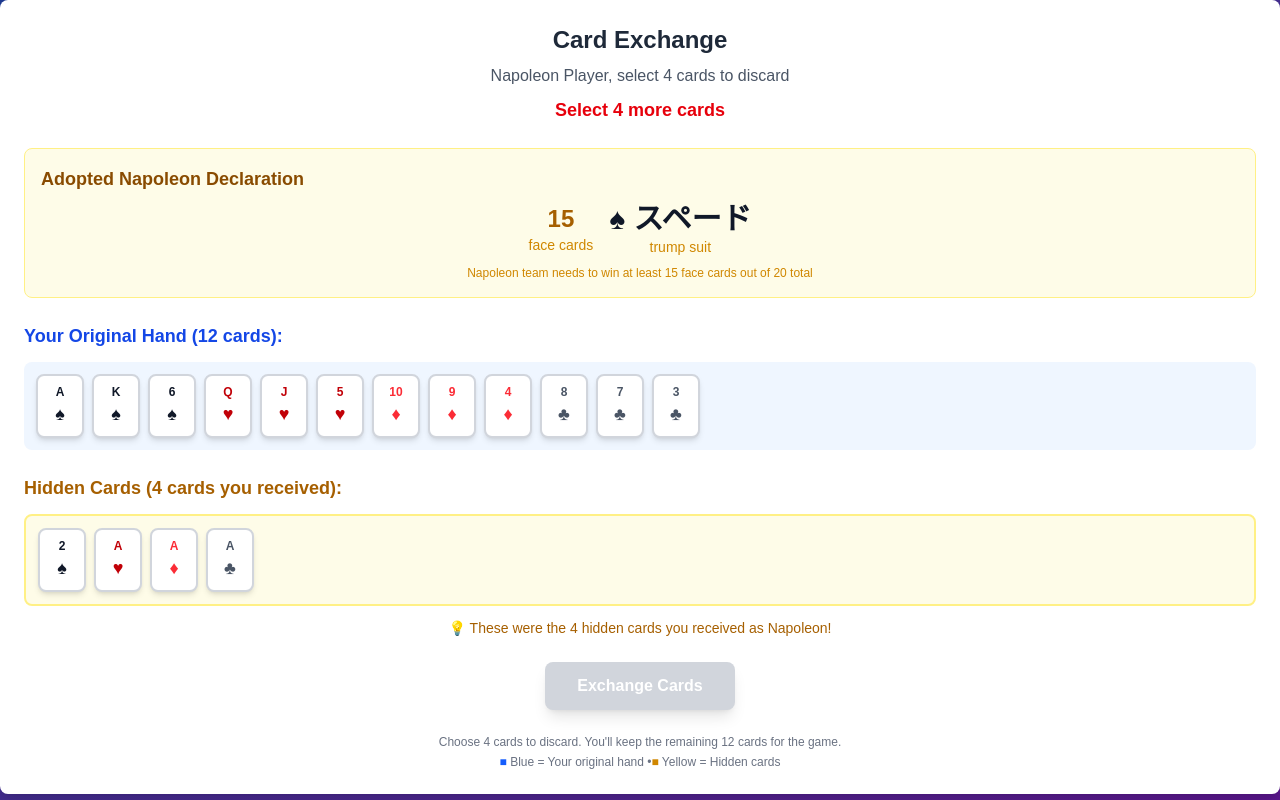
Test: CardExchangeSelector › should show ready state when 4 cards are selected
The image size is (1280, 800).
Click the button "A ♠": click(60, 406) [36,374,84,438]
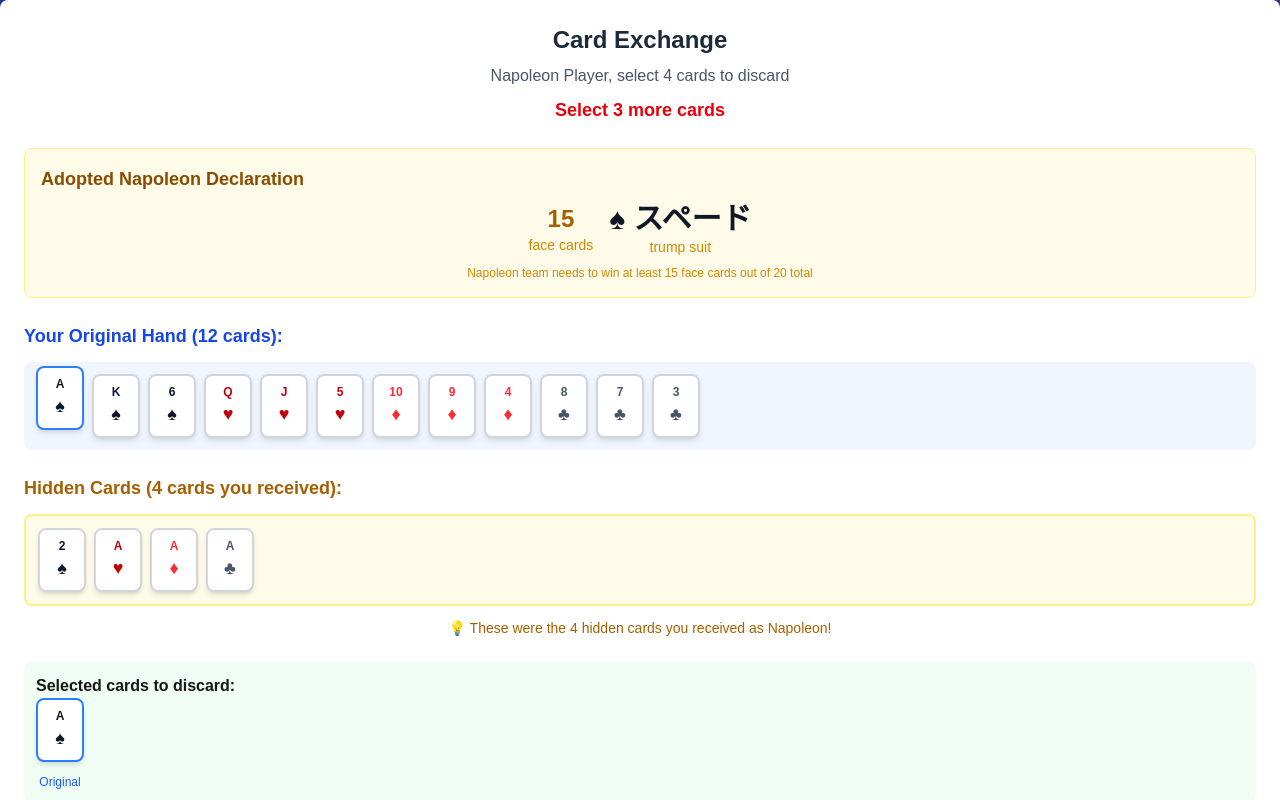
Click the button "K ♠": click(116, 406) [92,374,140,438]
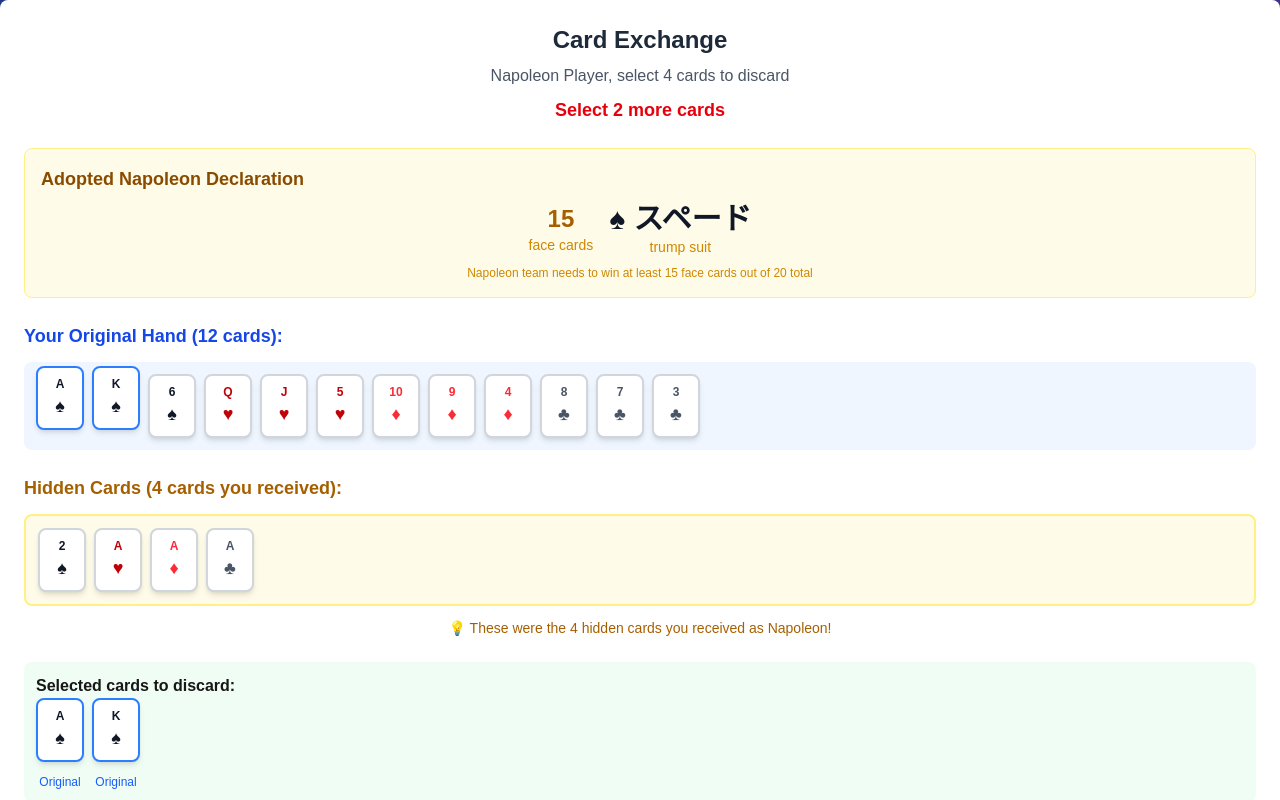
Click the button "6 ♠": click(172, 406) [148,374,196,438]
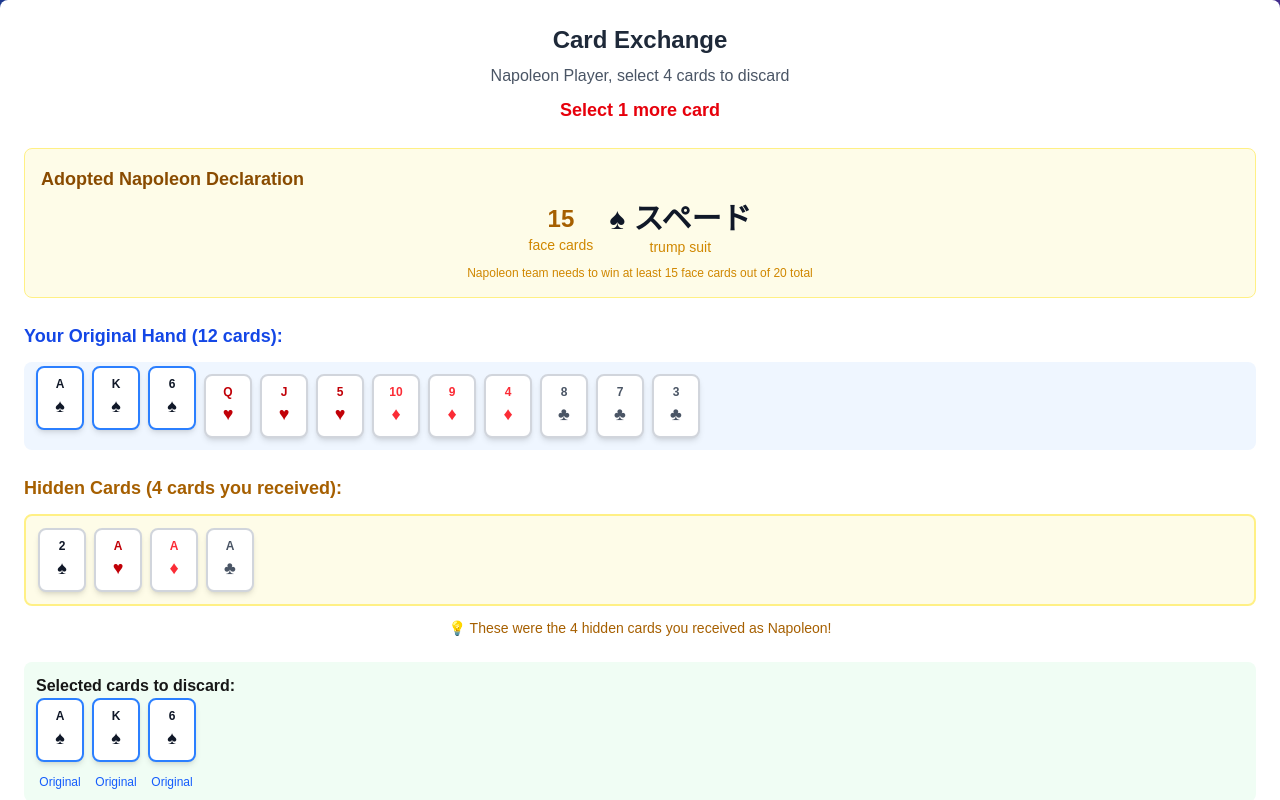
Click the button "Q ♥": click(228, 406) [204,374,252,438]
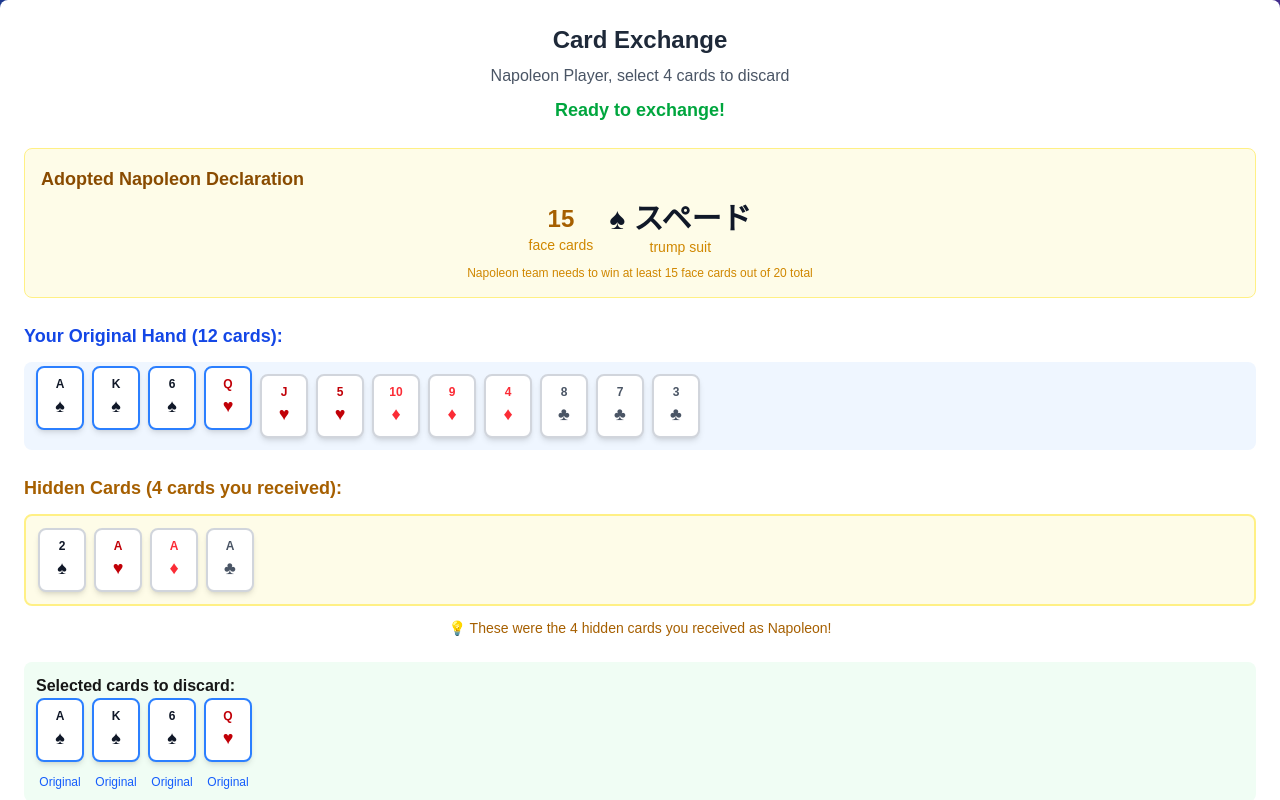
Now the text "Ready to exchange!" is shown, box [555,100,725,120]
